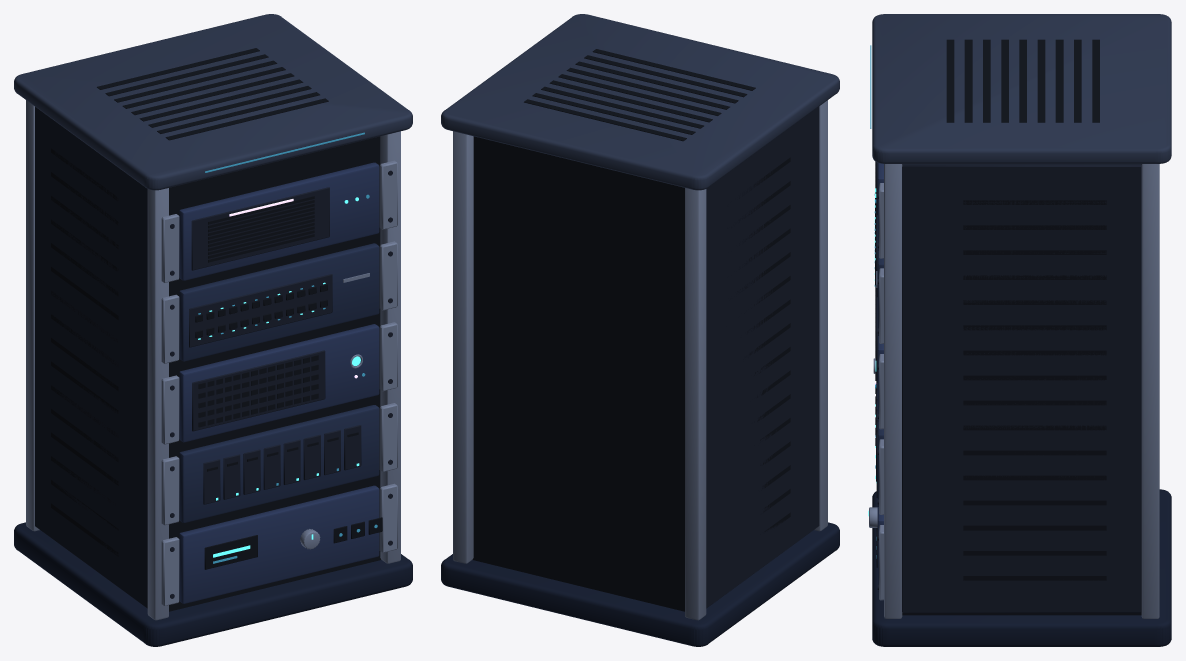
Rendered from rack.glb.
The picture shows the model from 3 angles, left to right: view 1: azimuth 30°, elevation 25°; view 2: azimuth 150°, elevation 25°; view 3: azimuth 270°, elevation 25°; orthographic projection. The views are drawn at different scales.
Visible parts, largest first — view 1: rack; view 2: rack; view 3: rack.
Part boxes in pixels (<box>): rack: <box>14,14,412,646</box>; rack: <box>441,14,839,646</box>; rack: <box>868,14,1171,646</box>.
Size of the model in its own units: 0.5005 by 0.847 by 0.4666.
